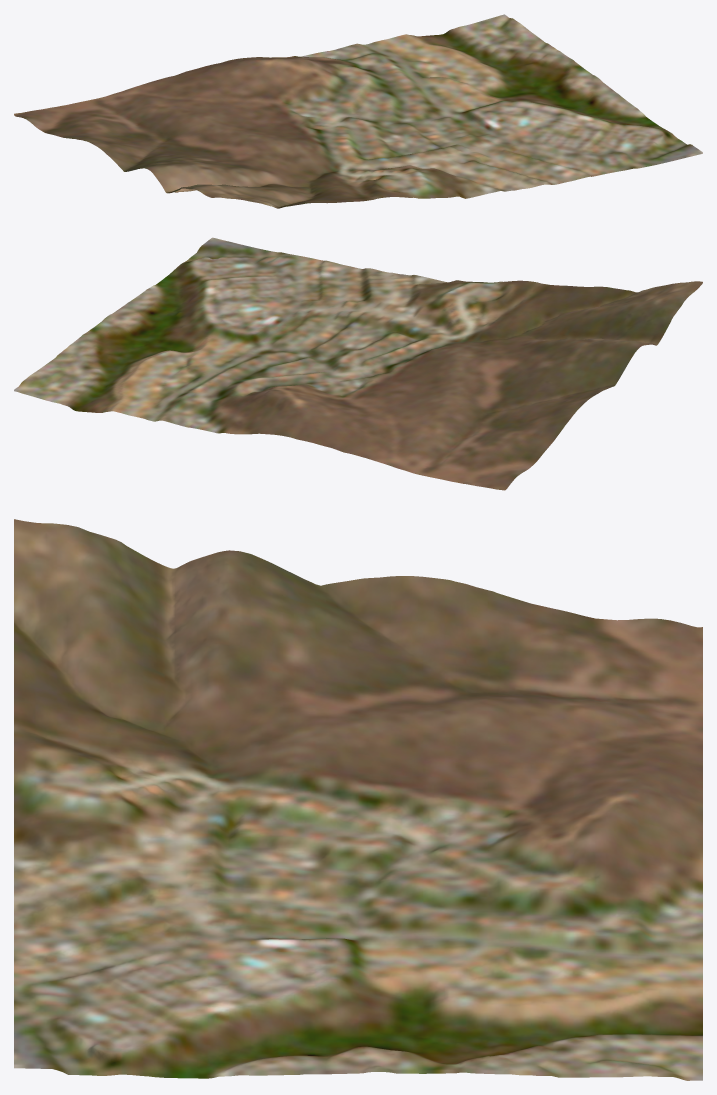
The model's file is terrain_r1_c6.glb.
3 renders of one model, top to bottom at view 1: azimuth 30°, elevation 25°; view 2: azimuth 150°, elevation 25°; view 3: azimuth 270°, elevation 25°, orthographic. The views are drawn at different scales.
Visible parts, largest first — view 1: terrain_r1_c6_lod0; view 2: terrain_r1_c6_lod0; view 3: terrain_r1_c6_lod0.
Boxes of the visible parts, x1,y1,x2,y2 form: terrain_r1_c6_lod0: (14, 14, 702, 208); terrain_r1_c6_lod0: (14, 237, 702, 490); terrain_r1_c6_lod0: (14, 519, 702, 1080).
Bounding box in the file's own units: 1125 × 194 × 787.
Materials: 1 (1 with a texture image).
